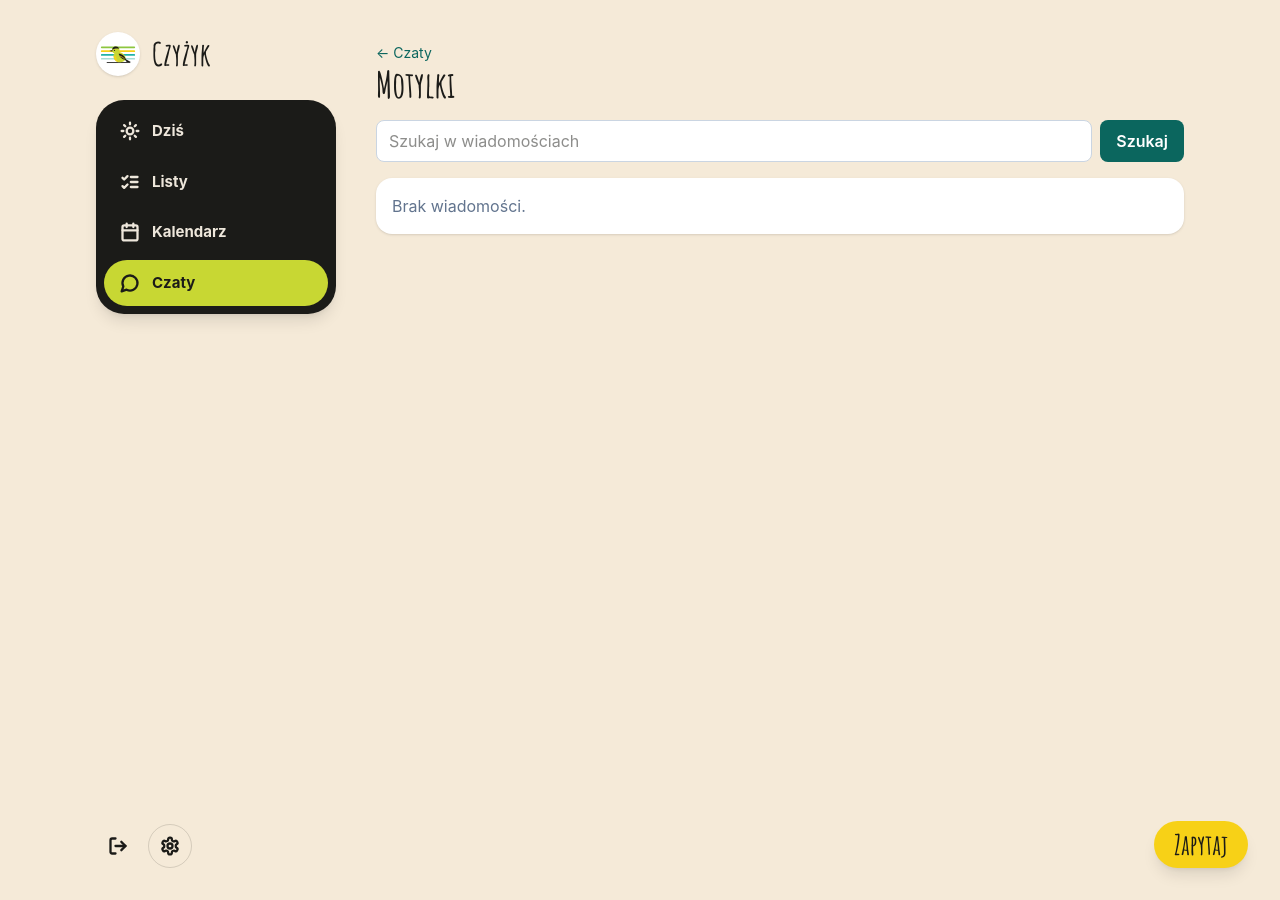
Test: Zapytaj › w historii grupy wysyła id grupy, a kolejne pytanie niesie historię rozmowy
Click the button "Zapytaj" at (1201, 844), box [1154,821,1248,868]
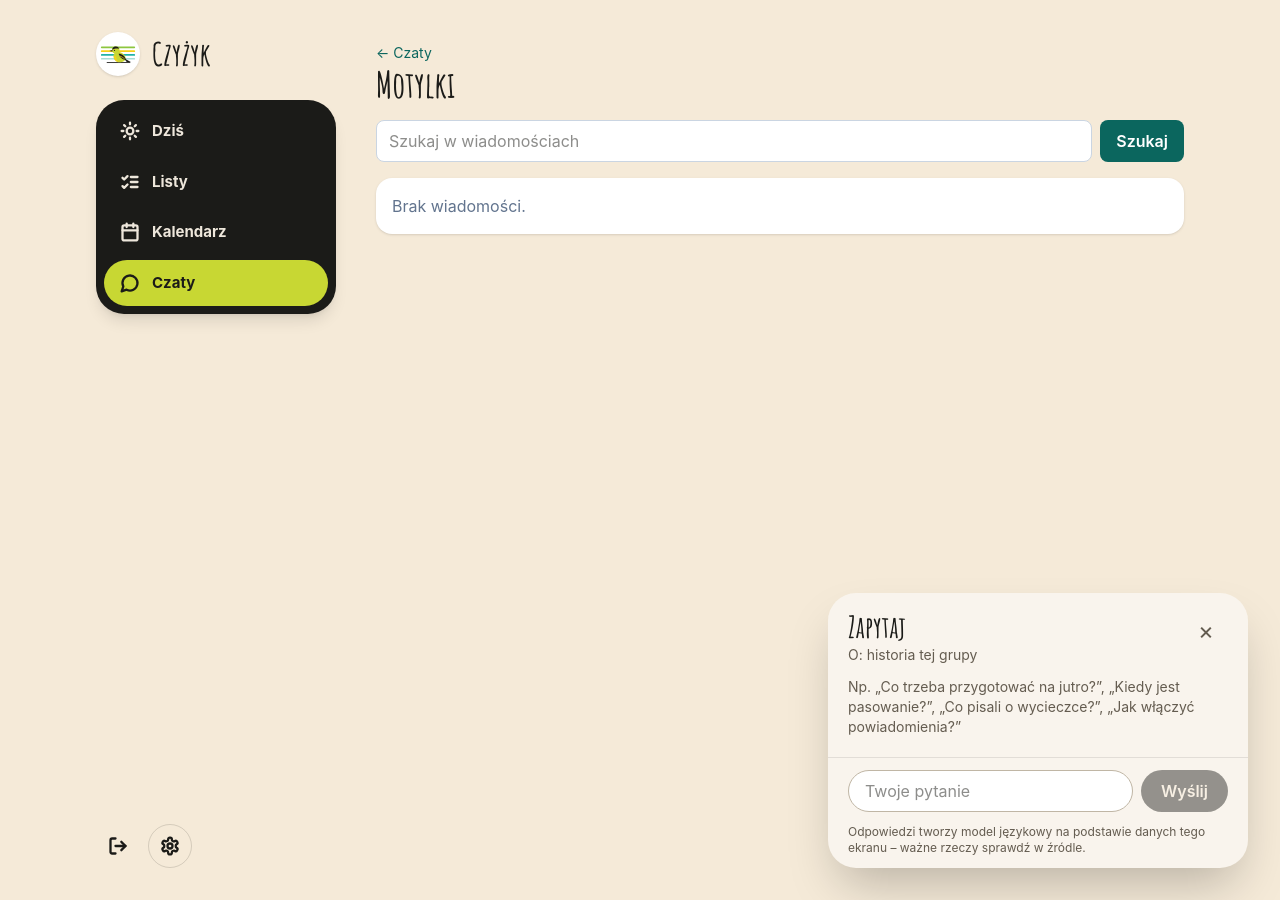
Type "co pisali o wycieczce?" into the field labelled "Twoje pytanie" at (990, 791), box [848,770,1133,812]
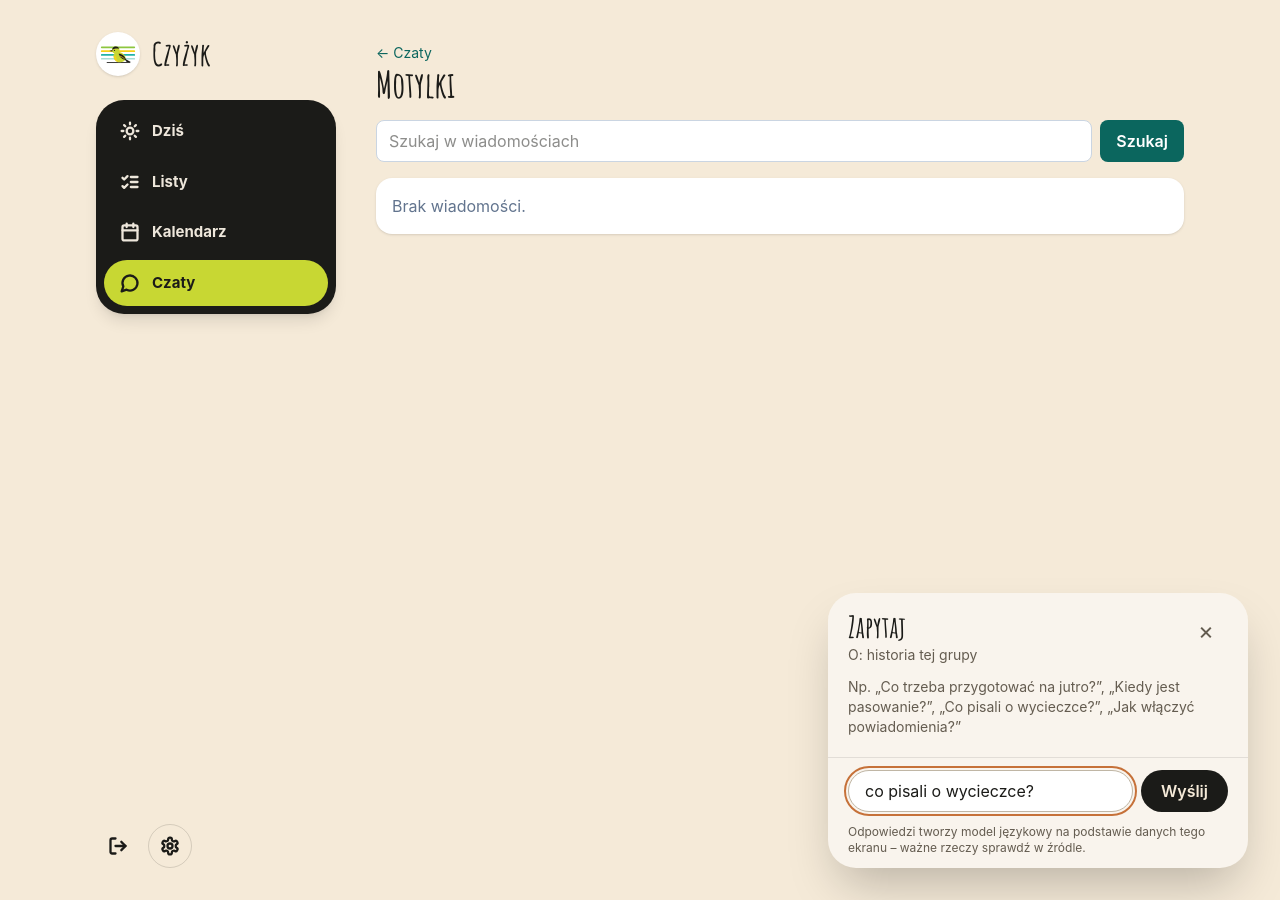
Click the button "Wyślij" at (1184, 791), box [1141,770,1228,812]
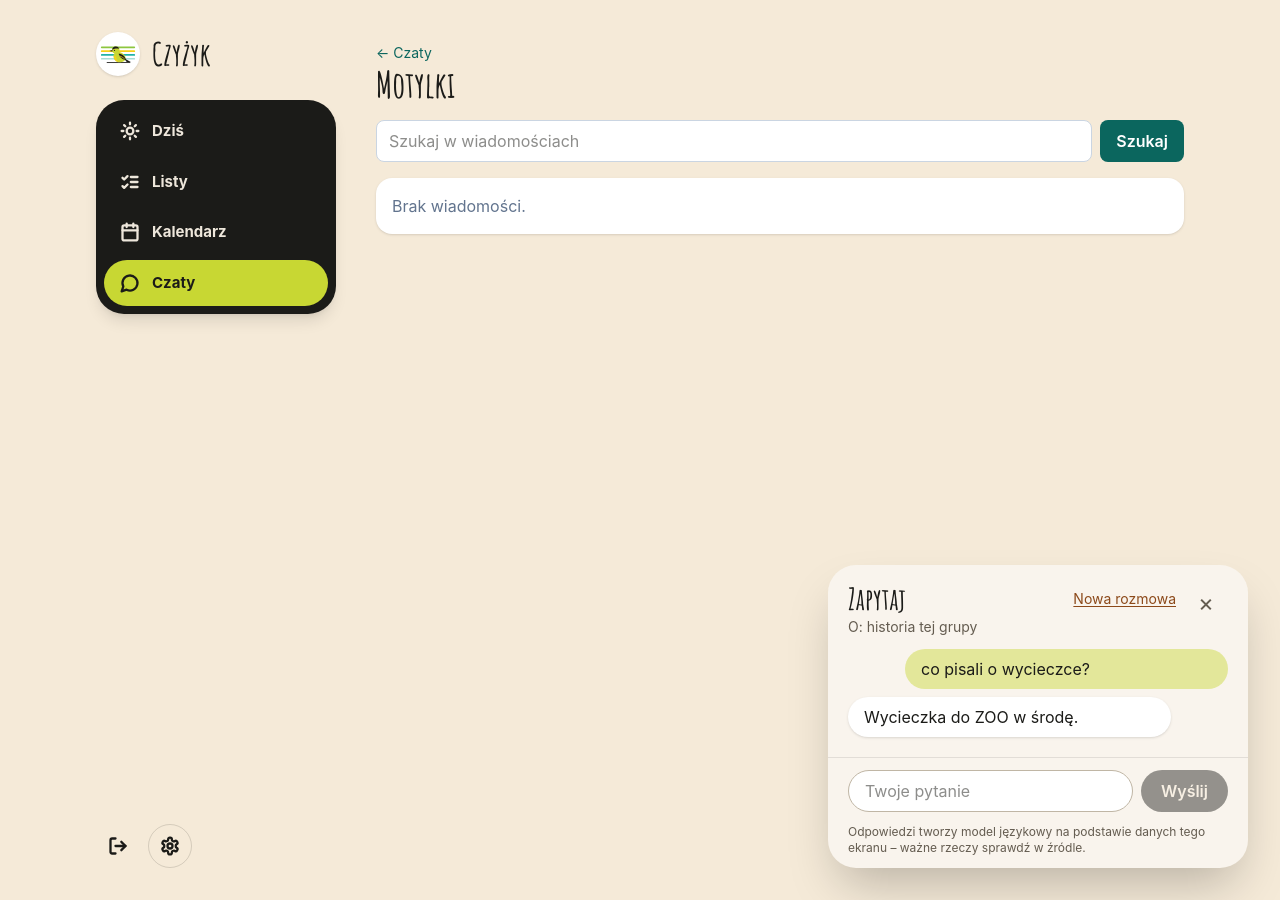
Expected: the list item "Wycieczka do ZOO w środę." is shown, [848,697,1171,737]
Type "o której zbiórka?" into the field labelled "Twoje pytanie" at (990, 791), box [848,770,1133,812]
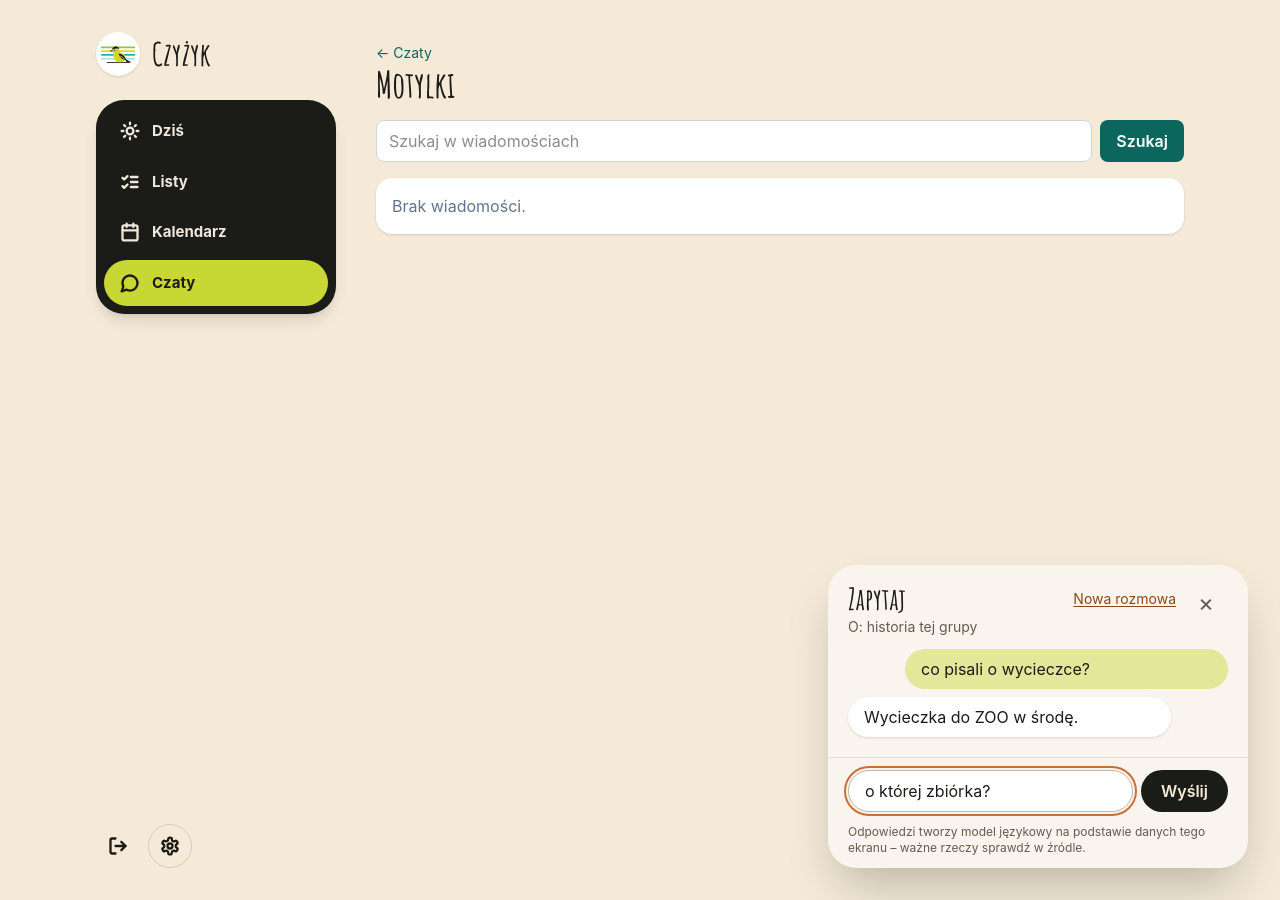
Click the button "Wyślij" at (1184, 791), box [1141,770,1228,812]
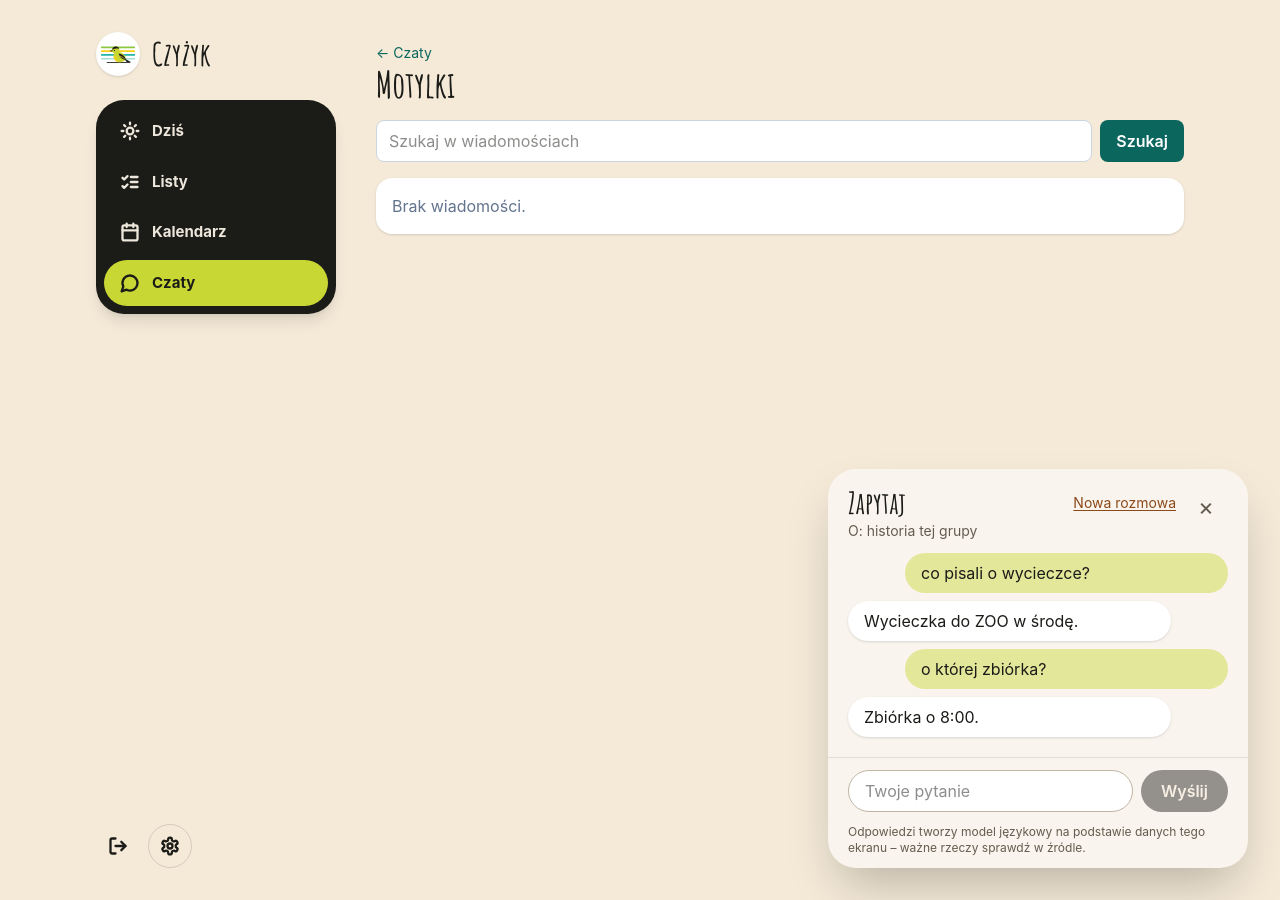
Expected: the list item "Zbiórka o 8:00." is shown, [848,697,1171,737]
Click the button "Nowa rozmowa" at (1125, 499), box [1073,485,1176,513]
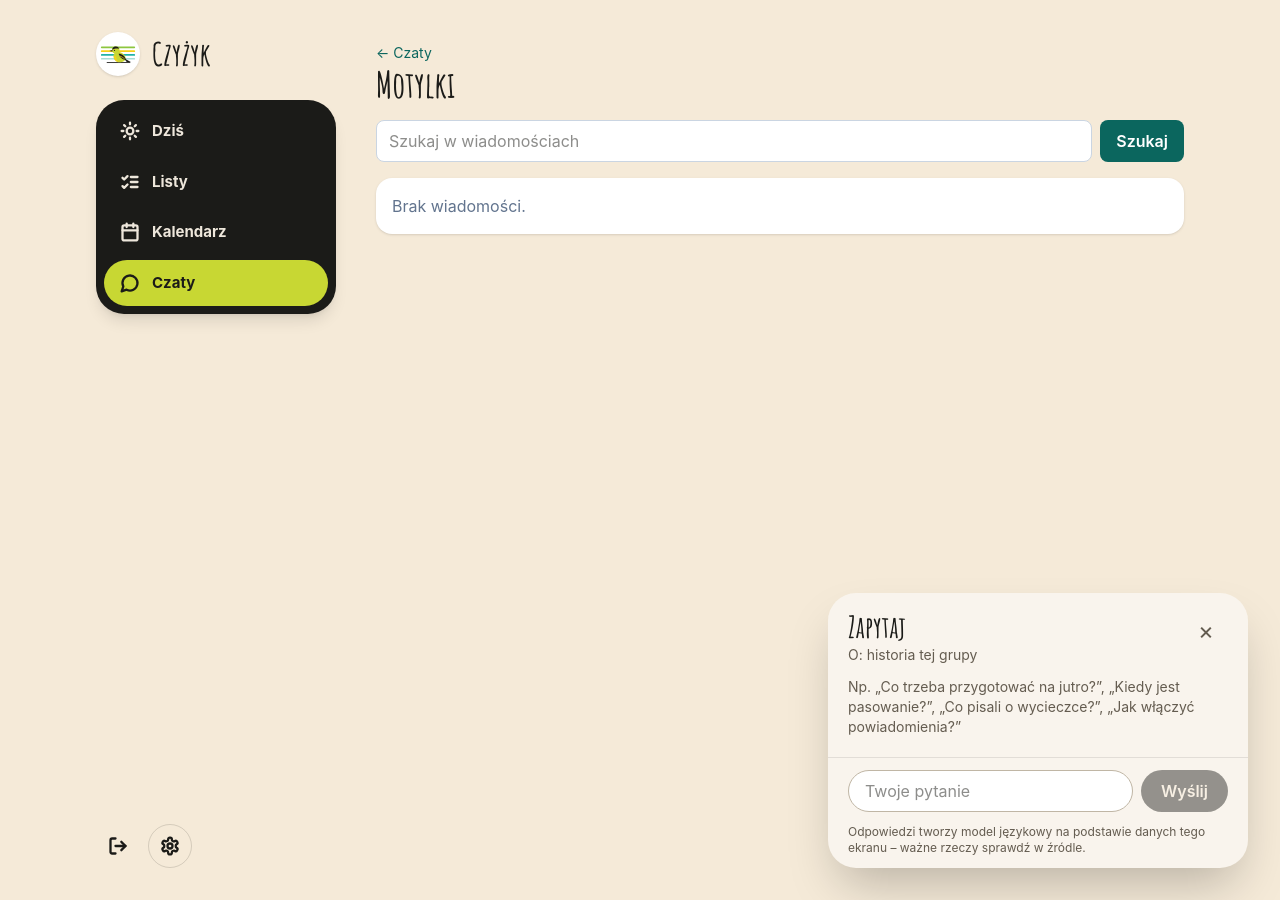
Expected: the list item "Zbiórka o 8:00." is gone
